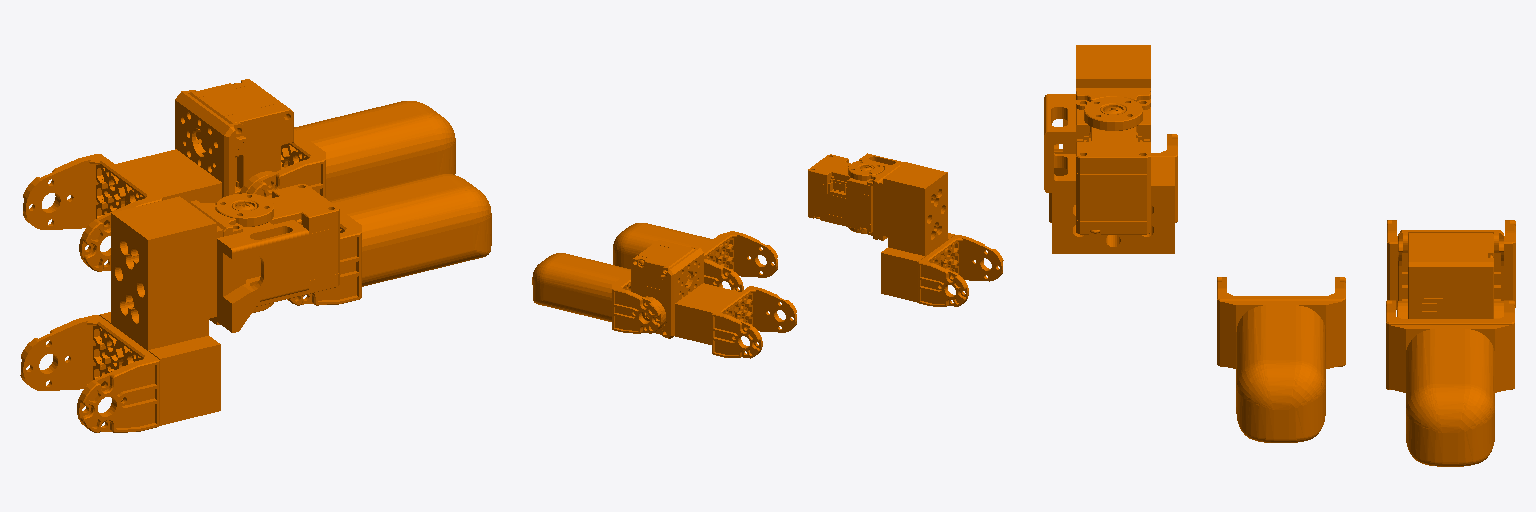
URDF robot description (onshape):
<robot name="onshape">
  <link name="palm_lower">
    <inertial>
      <origin xyz="0.0 0.0 0.0" rpy="0.0 -0.0 0.0"/>
      <mass value="0.237"/>
      <inertia ixx="0.000354094" ixy="-1.193e-06" ixz="-2.445e-06" iyy="0.000260915" iyz="-2.905e-06" izz="0.000529257"/>
    </inertial>
    <visual>
      <geometry>
        <mesh filename="../assets/leap/leap_hand/palm_lower.stl"/>
      </geometry>
      <origin xyz="-0.020095249652862544 0.025757756134899473 -0.034722403578460216" rpy="0.0 -0.0 0.0"/>
      <material name="palm_lower_material">
        <color rgba="0.6039215686274509 0.14901960784313725 0.14901960784313725 1.0"/>
      </material>
    </visual>
    <collision>
      <geometry>
        <mesh filename="../assets/leap/leap_hand/palm_lower.stl"/>
      </geometry>
      <origin xyz="-0.020095249652862544 0.025757756134899473 -0.034722403578460216" rpy="0.0 -0.0 0.0"/>
    </collision>
  </link>
  <link name="mcp_joint">
    <inertial>
      <origin xyz="0.0 0.0 0.0" rpy="0.0 -0.0 0.0"/>
      <mass value="0.044"/>
      <inertia ixx="1.1499e-05" ixy="3.049e-06" ixz="1.21e-07" iyy="7.796e-06" iyz="1.12e-07" izz="1.4759e-05"/>
    </inertial>
    <visual>
      <geometry>
        <mesh filename="../assets/leap/leap_hand/mcp_joint.stl"/>
      </geometry>
      <origin xyz="0.008406902261174496 0.0077662438597169954 0.014657354985032912" rpy="1.6375789613221e-15 -1.021047330249102e-30 1.7177968783327987e-31"/>
      <material name="mcp_joint_material">
        <color rgba="0.8666666666666667 0.8666666666666667 0.050980392156862744 1.0"/>
      </material>
    </visual>
    <collision>
      <geometry>
        <mesh filename="../assets/leap/leap_hand/mcp_joint.stl"/>
      </geometry>
      <origin xyz="0.008406902261174496 0.0077662438597169954 0.014657354985032912" rpy="1.6375789613221e-15 -1.021047330249102e-30 1.7177968783327987e-31"/>
    </collision>
  </link>
  <link name="pip">
    <inertial>
      <origin xyz="0.0 0.0 0.0" rpy="0.0 -0.0 0.0"/>
      <mass value="0.032"/>
      <inertia ixx="4.798e-06" ixy="1.2e-08" ixz="4e-09" iyy="2.862e-06" iyz="1.1e-08" izz="4.234e-06"/>
    </inertial>
    <visual>
      <geometry>
        <mesh filename="../assets/leap/leap_hand/pip.stl"/>
      </geometry>
      <origin xyz="0.009643363092271328 0.0002999999999999895 0.0007840340104173765" rpy="-1.5707963267948966 -1.5707963267948963 0.0"/>
      <material name="pip_material">
        <color rgba="0.7490196078431373 0.7490196078431373 0.7490196078431373 1.0"/>
      </material>
    </visual>
    <collision>
      <geometry>
        <mesh filename="../assets/leap/leap_hand/pip.stl"/>
      </geometry>
      <origin xyz="0.009643363092271328 0.0002999999999999895 0.0007840340104173765" rpy="-1.5707963267948966 -1.5707963267948963 0.0"/>
    </collision>
  </link>
  <link name="dip_long">
    <inertial>
      <origin xyz="0.0 0.0 0.0" rpy="0.0 -0.0 0.0"/>
      <mass value="0.037"/>
      <inertia ixx="5.542e-06" ixy="-6.07e-07" ixz="-1.7e-08" iyy="5.727e-06" iyz="-2.3e-08" izz="6.682e-06"/>
    </inertial>
    <visual>
      <geometry>
        <mesh filename="custom_models/dip_long.stl"/>
      </geometry>
      <origin xyz="0.021133352895225003 -0.00843211914670488 0.00978508816209524" rpy="-3.141592653589793 4.507511124216441e-32 4.439548105392361e-32"/>
      <material name="dip_material">
        <color rgba="0.878 0.467 0.0 1.0"/>
      </material>
    </visual>
    <collision>
      <geometry>
        <mesh filename="custom_models/dip_long.stl"/>
      </geometry>
      <origin xyz="0.021133352895225003 -0.00843211914670488 0.00978508816209524" rpy="-3.141592653589793 4.507511124216441e-32 4.439548105392361e-32"/>
    </collision>
  </link>
  <link name="fingertip_long">
    <inertial>
      <origin xyz="0.0 0.0 0.0" rpy="0.0 -0.0 0.0"/>
      <mass value="0.016"/>
      <inertia ixx="3.368e-06" ixy="1.15e-07" ixz="0.0" iyy="1.556e-06" iyz="0.0" izz="2.863e-06"/>
    </inertial>
    <visual>
      <geometry>
        <mesh filename="custom_models/fingertip_long.stl"/>
      </geometry>
      <origin xyz="0.013286424108533503 -0.006114238386541987 0.014499999999999498" rpy="3.141592653589793 1.1993117970061735e-33 4.439548105392361e-32"/>
      <material name="fingertip_material">
        <color rgba="0.878 0.467 0.0 1.0"/>
      </material>
    </visual>
    <collision>
      <geometry>
        <mesh filename="custom_models/fingertip_long.stl"/>
      </geometry>
      <origin xyz="0.013286424108533503 -0.006114238386541987 0.014499999999999498" rpy="3.141592653589793 1.1993117970061735e-33 4.439548105392361e-32"/>
    </collision>
  </link>
  <link name="pip_4">
    <inertial>
      <origin xyz="0.0 0.0 0.0" rpy="0.0 -0.0 0.0"/>
      <mass value="0.032"/>
      <inertia ixx="4.798e-06" ixy="1.2e-08" ixz="4e-09" iyy="2.862e-06" iyz="1.1e-08" izz="4.234e-06"/>
    </inertial>
    <visual>
      <geometry>
        <mesh filename="../assets/leap/leap_hand/pip.stl"/>
      </geometry>
      <origin xyz="-0.005356636907728671 0.0002999999999999999 0.0007840340104173782" rpy="-1.5707963267948966 -1.5707963267948963 0.0"/>
      <material name="pip_material">
        <color rgba="0.7490196078431373 0.7490196078431373 0.7490196078431373 1.0"/>
      </material>
    </visual>
    <collision>
      <geometry>
        <mesh filename="../assets/leap/leap_hand/pip.stl"/>
      </geometry>
      <origin xyz="-0.005356636907728671 0.0002999999999999999 0.0007840340104173782" rpy="-1.5707963267948966 -1.5707963267948963 0.0"/>
    </collision>
  </link>
  <link name="thumb_pip">
    <inertial>
      <origin xyz="0.0 0.0 0.0" rpy="0.0 -0.0 0.0"/>
      <mass value="0.003"/>
      <inertia ixx="5.93e-07" ixy="0.0" ixz="0.0" iyy="5.49e-07" iyz="0.0" izz="2.24e-07"/>
    </inertial>
    <visual>
      <geometry>
        <mesh filename="../assets/leap/leap_hand/thumb_pip.stl"/>
      </geometry>
      <origin xyz="0.011961920770611187 -5.30825383648903e-16 -0.0158526489566642" rpy="1.5707963267948966 1.6050198443300153e-46 -3.9204996250525193e-59"/>
      <material name="thumb_pip_material">
        <color rgba="0.8666666666666667 0.8666666666666667 0.050980392156862744 1.0"/>
      </material>
    </visual>
    <collision>
      <geometry>
        <mesh filename="../assets/leap/leap_hand/thumb_pip.stl"/>
      </geometry>
      <origin xyz="0.011961920770611187 -5.30825383648903e-16 -0.0158526489566642" rpy="1.5707963267948966 1.6050198443300153e-46 -3.9204996250525193e-59"/>
    </collision>
  </link>
  <link name="thumb_dip">
    <inertial>
      <origin xyz="0.0 0.0 0.0" rpy="0.0 -0.0 0.0"/>
      <mass value="0.038"/>
      <inertia ixx="8.474e-06" ixy="2.41e-07" ixz="2.6e-08" iyy="3.841e-06" iyz="2.5e-08" izz="7.679e-06"/>
    </inertial>
    <visual>
      <geometry>
        <mesh filename="../assets/leap/leap_hand/thumb_dip.stl"/>
      </geometry>
      <origin xyz="0.043968715707239175 0.0579529529737092 -0.008628676449369476" rpy="1.94289029309401e-16 3.27515792264422e-15 1.112375852965736e-46"/>
      <material name="thumb_dip_material">
        <color rgba="0.8666666666666667 0.8666666666666667 0.050980392156862744 1.0"/>
      </material>
    </visual>
    <collision>
      <geometry>
        <mesh filename="../assets/leap/leap_hand/thumb_dip.stl"/>
      </geometry>
      <origin xyz="0.043968715707239175 0.0579529529737092 -0.008628676449369476" rpy="1.94289029309401e-16 3.27515792264422e-15 1.112375852965736e-46"/>
    </collision>
  </link>
  <link name="thumb_fingertip">
    <inertial>
      <origin xyz="0.0 0.0 0.0" rpy="0.0 -0.0 0.0"/>
      <mass value="0.049"/>
      <inertia ixx="2.0372e-05" ixy="-4.89e-07" ixz="-3e-08" iyy="4.336e-06" iyz="-9.7e-08" izz="1.9845e-05"/>
    </inertial>
    <visual>
      <geometry>
        <mesh filename="../assets/leap/leap_hand/thumb_fingertip.stl"/>
      </geometry>
      <origin xyz="0.06255953846266739 0.07845968291139699 0.048992911807332215" rpy="4.379057701015637e-47 -3.33066907387547e-16 1.2042408677791935e-46"/>
      <material name="thumb_fingertip_material">
        <color rgba="0.6039215686274509 0.14901960784313725 0.14901960784313725 1.0"/>
      </material>
    </visual>
    <collision>
      <geometry>
        <mesh filename="../assets/leap/leap_hand/thumb_fingertip.stl"/>
      </geometry>
      <origin xyz="0.06255953846266739 0.07845968291139699 0.048992911807332215" rpy="4.379057701015637e-47 -3.33066907387547e-16 1.2042408677791935e-46"/>
    </collision>
  </link>
  <link name="mcp_joint_2">
    <inertial>
      <origin xyz="0.0 0.0 0.0" rpy="0.0 -0.0 0.0"/>
      <mass value="0.044"/>
      <inertia ixx="1.1499e-05" ixy="3.049e-06" ixz="1.21e-07" iyy="7.796e-06" iyz="1.12e-07" izz="1.4759e-05"/>
    </inertial>
    <visual>
      <geometry>
        <mesh filename="../assets/leap/leap_hand/mcp_joint.stl"/>
      </geometry>
      <origin xyz="0.008406902261174496 0.0077662438597169954 0.014657354985032914" rpy="1.6375789613221e-15 -1.0076465469034e-30 2.1209300131419907e-61"/>
      <material name="mcp_joint_material">
        <color rgba="0.8666666666666667 0.8666666666666667 0.050980392156862744 1.0"/>
      </material>
    </visual>
    <collision>
      <geometry>
        <mesh filename="../assets/leap/leap_hand/mcp_joint.stl"/>
      </geometry>
      <origin xyz="0.008406902261174496 0.0077662438597169954 0.014657354985032914" rpy="1.6375789613221e-15 -1.0076465469034e-30 2.1209300131419907e-61"/>
    </collision>
  </link>
  <link name="pip_2">
    <inertial>
      <origin xyz="0.0 0.0 0.0" rpy="0.0 -0.0 0.0"/>
      <mass value="0.032"/>
      <inertia ixx="4.798e-06" ixy="1.2e-08" ixz="4e-09" iyy="2.862e-06" iyz="1.1e-08" izz="4.234e-06"/>
    </inertial>
    <visual>
      <geometry>
        <mesh filename="../assets/leap/leap_hand/pip.stl"/>
      </geometry>
      <origin xyz="0.009643363092271328 0.0002999999999999947 0.0007840340104173765" rpy="-1.5707963267948966 -1.5707963267948963 0.0"/>
      <material name="pip_material">
        <color rgba="0.7490196078431373 0.7490196078431373 0.7490196078431373 1.0"/>
      </material>
    </visual>
    <collision>
      <geometry>
        <mesh filename="../assets/leap/leap_hand/pip.stl"/>
      </geometry>
      <origin xyz="0.009643363092271328 0.0002999999999999947 0.0007840340104173765" rpy="-1.5707963267948966 -1.5707963267948963 0.0"/>
    </collision>
  </link>
  <link name="dip_2">
    <inertial>
      <origin xyz="0.0 0.0 0.0" rpy="0.0 -0.0 0.0"/>
      <mass value="0.037"/>
      <inertia ixx="5.542e-06" ixy="-6.07e-07" ixz="-1.7e-08" iyy="5.727e-06" iyz="-2.3e-08" izz="6.682e-06"/>
    </inertial>
    <visual>
      <geometry>
        <mesh filename="../assets/leap/leap_hand/dip.stl"/>
      </geometry>
      <origin xyz="0.021133352895225003 -0.008432119146704865 0.009785088162095237" rpy="-3.141592653589793 2.1146933785271956e-32 1.4408183216511869e-31"/>
      <material name="dip_material">
        <color rgba="0.8666666666666667 0.8666666666666667 0.050980392156862744 1.0"/>
      </material>
    </visual>
    <collision>
      <geometry>
        <mesh filename="../assets/leap/leap_hand/dip.stl"/>
      </geometry>
      <origin xyz="0.021133352895225003 -0.008432119146704865 0.009785088162095237" rpy="-3.141592653589793 2.1146933785271956e-32 1.4408183216511869e-31"/>
    </collision>
  </link>
  <link name="fingertip_2_long">
    <inertial>
      <origin xyz="0.0 0.0 0.0" rpy="0.0 -0.0 0.0"/>
      <mass value="0.016"/>
      <inertia ixx="3.368e-06" ixy="1.15e-07" ixz="0.0" iyy="1.556e-06" iyz="0.0" izz="2.863e-06"/>
    </inertial>
    <visual>
      <geometry>
        <mesh filename="custom_models/fingertip_long.stl"/>
      </geometry>
      <origin xyz="0.013286424108533496 -0.006114238386542001 0.014499999999999496" rpy="3.141592653589793 -4.317959788283594e-33 1.4408183216511869e-31"/>
      <material name="fingertip_material">
        <color rgba="0.878 0.467 0.0 1.0"/>
      </material>
    </visual>
    <collision>
      <geometry>
        <mesh filename="custom_models/fingertip_long.stl"/>
      </geometry>
      <origin xyz="0.013286424108533496 -0.006114238386542001 0.014499999999999496" rpy="3.141592653589793 -4.317959788283594e-33 1.4408183216511869e-31"/>
    </collision>
  </link>
  <link name="mcp_joint_3_long">
    <inertial>
      <origin xyz="0.0 0.0 0.0" rpy="0.0 -0.0 0.0"/>
      <mass value="0.044"/>
      <inertia ixx="1.1499e-05" ixy="3.049e-06" ixz="1.21e-07" iyy="7.796e-06" iyz="1.12e-07" izz="1.4759e-05"/>
    </inertial>
    <visual>
      <geometry>
        <mesh filename="custom_models/mcp_joint_long.stl"/>
      </geometry>
      <origin xyz="0.0084069022611745 0.007766243859716996 0.014657354985032914" rpy="1.6375789613221e-15 -1.0059504988632627e-30 5.729641584552035e-32"/>
      <material name="mcp_joint_material">
        <color rgba="0.878 0.467 0.0 1.0"/>
      </material>
    </visual>
    <collision>
      <geometry>
        <mesh filename="custom_models/mcp_joint_long.stl"/>
      </geometry>
      <origin xyz="0.0084069022611745 0.007766243859716996 0.014657354985032914" rpy="1.6375789613221e-15 -1.0059504988632627e-30 5.729641584552035e-32"/>
    </collision>
  </link>
  <link name="pip_3">
    <inertial>
      <origin xyz="0.0 0.0 0.0" rpy="0.0 -0.0 0.0"/>
      <mass value="0.032"/>
      <inertia ixx="4.798e-06" ixy="1.2e-08" ixz="4e-09" iyy="2.862e-06" iyz="1.1e-08" izz="4.234e-06"/>
    </inertial>
    <visual>
      <geometry>
        <mesh filename="../assets/leap/leap_hand/pip.stl"/>
      </geometry>
      <origin xyz="0.009643363092271331 0.00029999999999998084 0.0007840340104173765" rpy="-1.5707963267948966 -1.5707963267948963 0.0"/>
      <material name="pip_material">
        <color rgba="0.7490196078431373 0.7490196078431373 0.7490196078431373 1.0"/>
      </material>
    </visual>
    <collision>
      <geometry>
        <mesh filename="../assets/leap/leap_hand/pip.stl"/>
      </geometry>
      <origin xyz="0.009643363092271331 0.00029999999999998084 0.0007840340104173765" rpy="-1.5707963267948966 -1.5707963267948963 0.0"/>
    </collision>
  </link>
  <link name="dip_3">
    <inertial>
      <origin xyz="0.0 0.0 0.0" rpy="0.0 -0.0 0.0"/>
      <mass value="0.037"/>
      <inertia ixx="5.542e-06" ixy="-6.07e-07" ixz="-1.7e-08" iyy="5.727e-06" iyz="-2.3e-08" izz="6.682e-06"/>
    </inertial>
    <visual>
      <geometry>
        <mesh filename="../assets/leap/leap_hand/dip.stl"/>
      </geometry>
      <origin xyz="0.021133352895225006 -0.008432119146704865 0.009785088162095237" rpy="-3.141592653589793 -1.4095651113919093e-33 1.5565411607615035e-32"/>
      <material name="dip_material">
        <color rgba="0.8666666666666667 0.8666666666666667 0.050980392156862744 1.0"/>
      </material>
    </visual>
    <collision>
      <geometry>
        <mesh filename="../assets/leap/leap_hand/dip.stl"/>
      </geometry>
      <origin xyz="0.021133352895225006 -0.008432119146704865 0.009785088162095237" rpy="-3.141592653589793 -1.4095651113919093e-33 1.5565411607615035e-32"/>
    </collision>
  </link>
  <link name="fingertip_3">
    <inertial>
      <origin xyz="0.0 0.0 0.0" rpy="0.0 -0.0 0.0"/>
      <mass value="0.016"/>
      <inertia ixx="3.368e-06" ixy="1.15e-07" ixz="0.0" iyy="1.556e-06" iyz="0.0" izz="2.863e-06"/>
    </inertial>
    <visual>
      <geometry>
        <mesh filename="../assets/leap/leap_hand/fingertip.stl"/>
      </geometry>
      <origin xyz="0.013286424108533501 -0.006114238386541987 0.0144999999999995" rpy="3.141592653589793 8.61707169505754e-33 1.5565411607615035e-32"/>
      <material name="fingertip_material">
        <color rgba="0.8666666666666667 0.8666666666666667 0.050980392156862744 1.0"/>
      </material>
    </visual>
    <collision>
      <geometry>
        <mesh filename="../assets/leap/leap_hand/fingertip.stl"/>
      </geometry>
      <origin xyz="0.013286424108533501 -0.006114238386541987 0.0144999999999995" rpy="3.141592653589793 8.61707169505754e-33 1.5565411607615035e-32"/>
    </collision>
  </link>
  <joint name="1" type="revolute">
    <parent link="palm_lower"/>
    <child link="mcp_joint"/>
    <origin xyz="-0.007095249652862546 0.023057756134899472 -0.01872240357846022" rpy="1.570796326794895 1.5707963267948946 0.0"/>
    <axis xyz="0.0 0.0 -1.0"/>
    <limit effort="0.95" velocity="8.48" lower="-0.314" upper="2.23"/>
  </joint>
  <joint name="0" type="revolute">
    <parent link="mcp_joint"/>
    <child link="pip"/>
    <origin xyz="-0.012200000000000008 0.038099999999999995 0.0145" rpy="-1.5707963267948966 -1.0065212660796337e-15 1.5707963267948943"/>
    <axis xyz="0.0 0.0 -1.0"/>
    <limit effort="0.95" velocity="8.48" lower="-1.047" upper="1.047"/>
  </joint>
  <joint name="2" type="revolute">
    <parent link="pip"/>
    <child link="dip_long"/>
    <origin xyz="0.014999999999999968 0.014299999999999905 -0.012999999999999824" rpy="1.570796326794896 -1.5707963267948963 0.0"/>
    <axis xyz="0.0 0.0 -1.0"/>
    <limit effort="0.95" velocity="8.48" lower="-0.506" upper="1.885"/>
  </joint>
  <joint name="3" type="revolute">
    <parent link="dip_long"/>
    <child link="fingertip_long"/>
    <origin xyz="-4.0880582495572692636e-09 -0.051100004210367367397 0.00020000000000007858714" rpy="4.5935029425113685e-17 -2.8730071914463795e-16 4.439548105392361e-32"/>
    <axis xyz="0.0 0.0 -1.0"/>
    <limit effort="0.95" velocity="8.48" lower="-0.366" upper="2.042"/>
  </joint>
  <joint name="12" type="revolute">
    <parent link="palm_lower"/>
    <child link="pip_4"/>
    <origin xyz="-0.06939524965286253 -0.0012422438651005258 -0.021622403578460216" rpy="-8.238176646493942e-17 1.5707963267948957 0.0"/>
    <axis xyz="0.0 0.0 -1.0"/>
    <limit effort="0.95" velocity="8.48" lower="-0.349" upper="2.094"/>
  </joint>
  <joint name="13" type="revolute">
    <parent link="pip_4"/>
    <child link="thumb_pip"/>
    <origin xyz="-2.7755575615628914e-17 0.014300000000000005 -0.013000000000000012" rpy="1.570796326794896 -1.5707963267948963 0.0"/>
    <axis xyz="0.0 0.0 -1.0"/>
    <limit effort="0.95" velocity="8.48" lower="-0.47" upper="2.443"/>
  </joint>
  <joint name="14" type="revolute">
    <parent link="thumb_pip"/>
    <child link="thumb_dip"/>
    <origin xyz="0.0 0.014499999999999966 -0.017000000000000053" rpy="-1.5707963267948966 1.6050198443300131e-46 -1.9721522630516625e-31"/>
    <axis xyz="0.0 0.0 -1.0"/>
    <limit effort="0.95" velocity="8.48" lower="-1.2" upper="1.9"/>
  </joint>
  <joint name="15" type="revolute">
    <parent link="thumb_dip"/>
    <child link="thumb_fingertip"/>
    <origin xyz="-1.249000902703301e-16 0.046599999999999864 0.0001999999999999771" rpy="1.506395849149178e-44 5.423418723393526e-31 3.141592653589793"/>
    <axis xyz="0.0 0.0 -1.0"/>
    <limit effort="0.95" velocity="8.48" lower="-1.34" upper="1.88"/>
  </joint>
  <joint name="5" type="revolute">
    <parent link="palm_lower"/>
    <child link="mcp_joint_2"/>
    <origin xyz="-0.007095249652862546 -0.022392243865100525 -0.01872240357846022" rpy="1.570796326794895 1.5707963267948946 0.0"/>
    <axis xyz="0.0 0.0 -1.0"/>
    <limit effort="0.95" velocity="8.48" lower="-0.314" upper="2.23"/>
  </joint>
  <joint name="4" type="revolute">
    <parent link="mcp_joint_2"/>
    <child link="pip_2"/>
    <origin xyz="-0.012200000000000008 0.038099999999999995 0.0145" rpy="-1.5707963267948966 -1.0065212660796337e-15 1.5707963267948943"/>
    <axis xyz="0.0 0.0 -1.0"/>
    <limit effort="0.95" velocity="8.48" lower="-1.047" upper="1.047"/>
  </joint>
  <joint name="6" type="revolute">
    <parent link="pip_2"/>
    <child link="dip_2"/>
    <origin xyz="0.014999999999999968 0.014299999999999905 -0.012999999999999824" rpy="1.570796326794896 -1.5707963267948963 0.0"/>
    <axis xyz="0.0 0.0 -1.0"/>
    <limit effort="0.95" velocity="8.48" lower="-0.506" upper="1.885"/>
  </joint>
  <joint name="7" type="revolute">
    <parent link="dip_2"/>
    <child link="fingertip_2_long"/>
    <origin xyz="-4.088058249557269e-09 -0.03610000421036737 0.0002000000000000786" rpy="4.5935029425113685e-17 -2.8730071914463795e-16 4.439548105392361e-32"/>
    <axis xyz="0.0 0.0 -1.0"/>
    <limit effort="0.95" velocity="8.48" lower="-0.366" upper="2.042"/>
  </joint>
  <joint name="9" type="revolute">
    <parent link="palm_lower"/>
    <child link="mcp_joint_3_long"/>
    <origin xyz="-0.007095249652862546 -0.06784224386510052 -0.01872240357846022" rpy="1.570796326794895 1.5707963267948946 0.0"/>
    <axis xyz="0.0 0.0 -1.0"/>
    <limit effort="0.95" velocity="8.48" lower="-0.314" upper="2.23"/>
  </joint>
  <joint name="8" type="revolute">
    <parent link="mcp_joint_3_long"/>
    <child link="pip_3"/>
    <origin xyz="-0.012200000000000007713 0.053099999999999994982 0.014500000000000000736" rpy="-1.5707963267948966 -1.0065212660796337e-15 1.5707963267948943"/>
    <axis xyz="0.0 0.0 -1.0"/>
    <limit effort="0.95" velocity="8.48" lower="-1.047" upper="1.047"/>
  </joint>
  <joint name="10" type="revolute">
    <parent link="pip_3"/>
    <child link="dip_3"/>
    <origin xyz="0.014999999999999968 0.014299999999999905 -0.012999999999999824" rpy="1.570796326794896 -1.5707963267948963 0.0"/>
    <axis xyz="0.0 0.0 -1.0"/>
    <limit effort="0.95" velocity="8.48" lower="-0.506" upper="1.885"/>
  </joint>
  <joint name="11" type="revolute">
    <parent link="dip_3"/>
    <child link="fingertip_3"/>
    <origin xyz="-4.088058249557269e-09 -0.03610000421036737 0.0002000000000000786" rpy="4.5935029425113685e-17 -2.8730071914463795e-16 4.439548105392361e-32"/>
    <axis xyz="0.0 0.0 -1.0"/>
    <limit effort="0.95" velocity="8.48" lower="-0.366" upper="2.042"/>
  </joint>
</robot>

--- Facts derived from the render (not from the file) ---
3 views of the same robot in one strip: view 1: azimuth 30°, elevation 25°; view 2: azimuth 150°, elevation 25°; view 3: azimuth 270°, elevation 25° (orthographic).
Robot: onshape — 17 links, 16 joints (16 revolute); root link palm_lower; default pose: every joint at zero.
Links seen in each view (by area): view 1: mcp_joint_3_long, dip_long, fingertip_2_long, fingertip_long; view 2: mcp_joint_3_long, dip_long, fingertip_long, fingertip_2_long; view 3: mcp_joint_3_long, fingertip_long, fingertip_2_long, dip_long.
Boxes of the visible links, left/top/right/bottom form: mcp_joint_3_long: left=20, top=184, right=339, bottom=432; dip_long: left=23, top=79, right=293, bottom=271; fingertip_2_long: left=266, top=174, right=491, bottom=305; fingertip_long: left=247, top=101, right=455, bottom=200; mcp_joint_3_long: left=808, top=153, right=1003, bottom=306; dip_long: left=631, top=240, right=796, bottom=358; fingertip_long: left=532, top=253, right=662, bottom=333; fingertip_2_long: left=613, top=223, right=777, bottom=291; mcp_joint_3_long: left=1044, top=45, right=1177, bottom=253; fingertip_long: left=1386, top=300, right=1514, bottom=466; fingertip_2_long: left=1217, top=277, right=1345, bottom=442; dip_long: left=1387, top=220, right=1515, bottom=318.
Size in the robot's own frame: 0.1766 by 0.1265 by 0.0549 metres.
4 mesh visuals loaded from 11 distinct referenced files (3 binary STL); not drawn: 13 (reference not matched to a file when rendering).